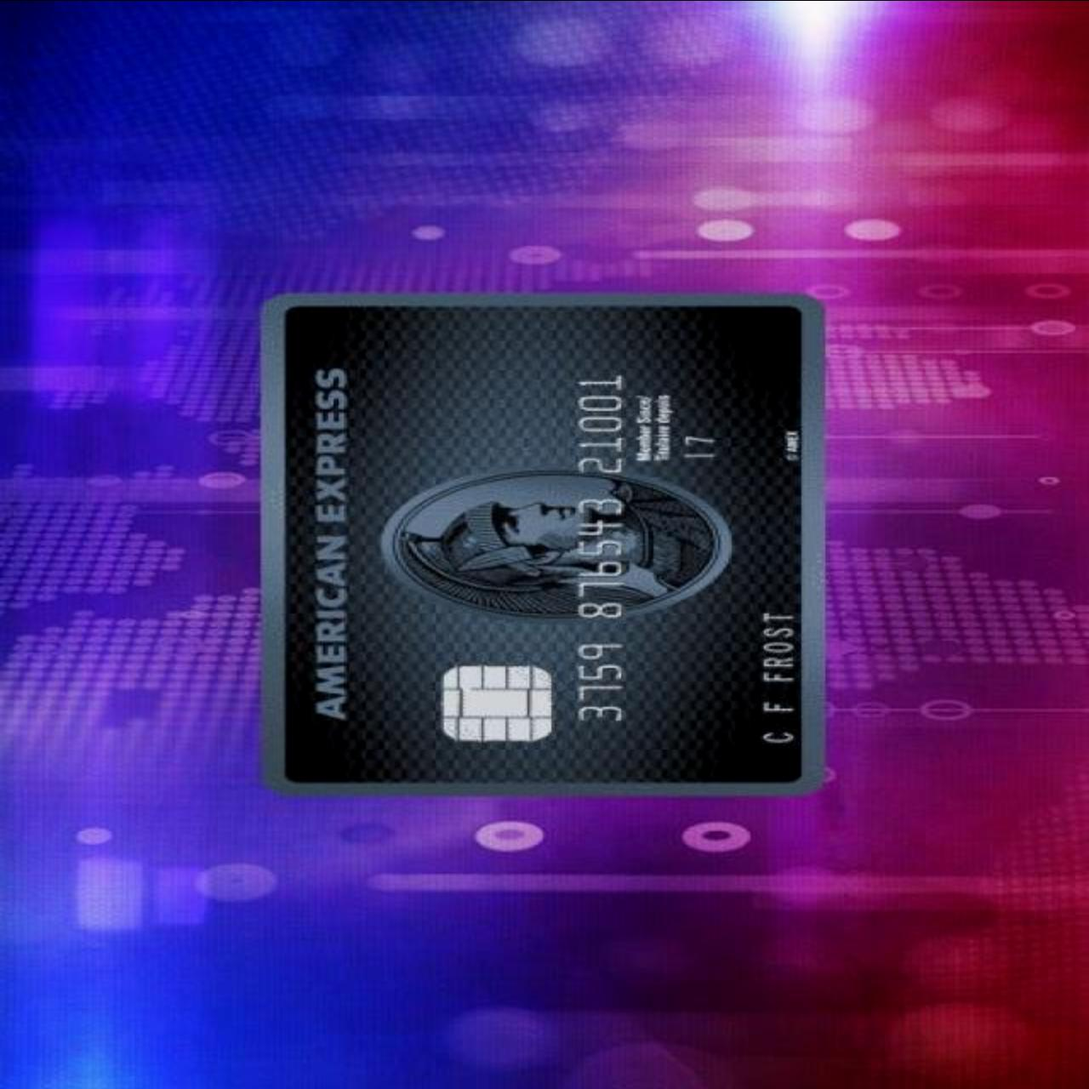credit_card: (262, 282, 827, 790)
